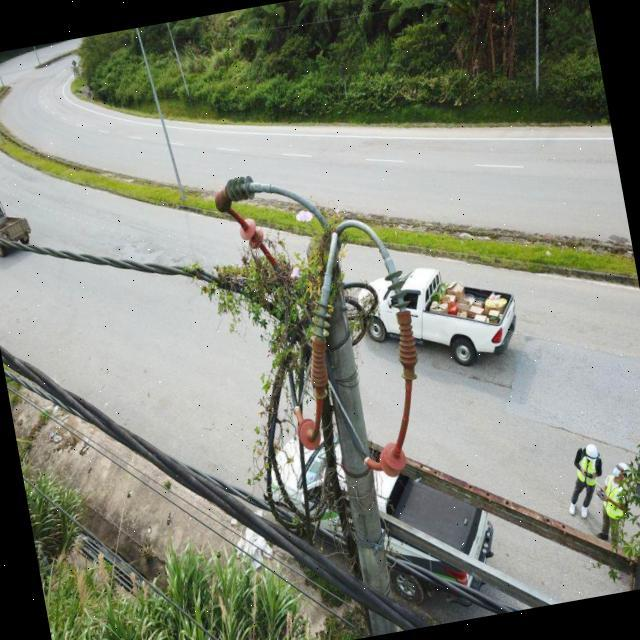critical vegetation: (160, 191, 417, 606)
